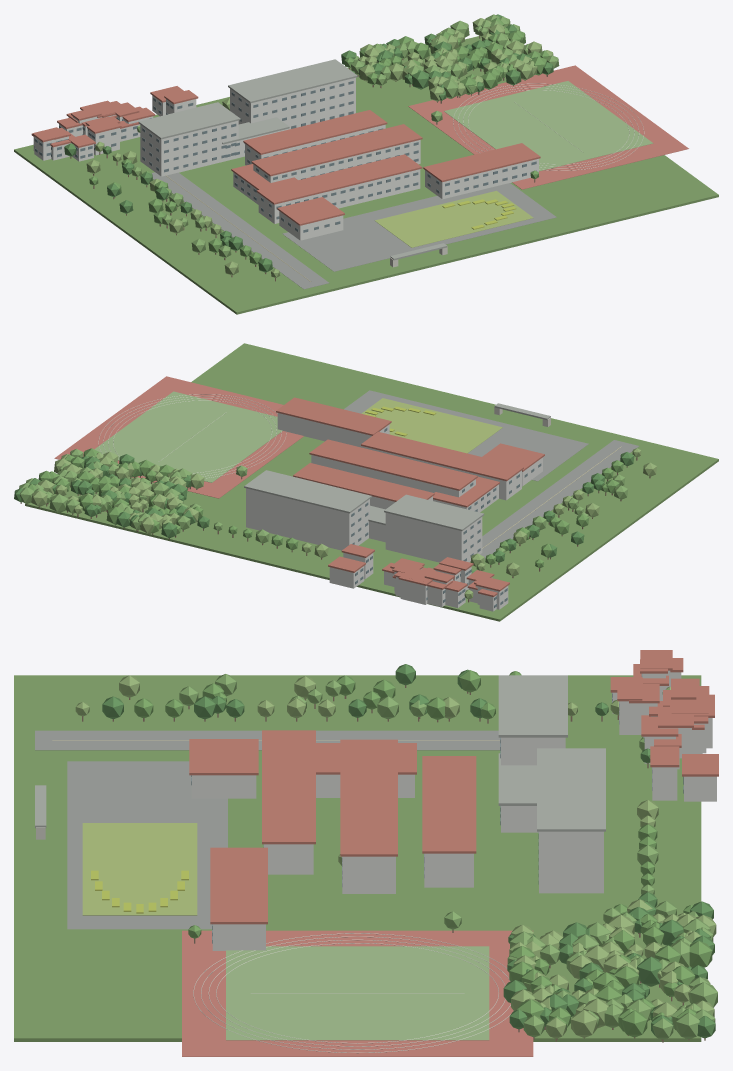
Rendered from dahua-campus.glb.
3 renders of one model, top to bottom at view 1: azimuth 30°, elevation 25°; view 2: azimuth 150°, elevation 25°; view 3: azimuth 270°, elevation 25°, orthographic. The views are drawn at different scales.
Parts seen in each view (by area): view 1: site terrain, field, track base, entrance apron, front oval lawn, west access road, north central pale block, northwest pale block, central classroom wing roof, south classroom wing roof, north central pale block roof, north classroom wing roof (+10 smaller); view 2: site terrain, field, track base, north central pale block, front oval lawn, entrance apron, northwest pale block, west access road, central classroom wing roof, south classroom wing roof, north central pale block roof, north classroom wing roof (+9 smaller); view 3: site terrain, field, track base, entrance apron, front oval lawn, central classroom wing roof, west access road, south classroom wing roof, north central pale block roof, north classroom wing roof, front east annex roof, northwest pale block roof (+20 smaller).
Boxes of the visible parts, x1,y1,x2,y2 form: site terrain: (14,36,718,314); field: (444,81,653,171); track base: (408,65,688,189); entrance apron: (282,183,556,271); front oval lawn: (374,190,533,247); west access road: (152,172,329,289); north central pale block: (230,77,355,129); northwest pale block: (140,120,238,176); central classroom wing roof: (251,124,422,176); south classroom wing roof: (256,154,422,204); north central pale block roof: (228,59,357,103); north classroom wing roof: (243,110,387,154); site terrain: (25,343,718,621); field: (94,391,282,482); track base: (54,376,303,498); north central pale block: (246,488,369,550); front oval lawn: (361,398,502,453); entrance apron: (344,390,588,481); northwest pale block: (385,513,482,562); west access road: (480,440,639,558); central classroom wing roof: (309,439,477,490); south classroom wing roof: (361,431,523,481); north central pale block roof: (244,470,371,513); north classroom wing roof: (293,463,434,501); site terrain: (14,675,701,1041); field: (226,946,489,1040); track base: (182,930,533,1056); entrance apron: (67,761,227,929); front oval lawn: (82,823,197,915); central classroom wing roof: (340,739,397,856); west access road: (35,730,500,750); south classroom wing roof: (262,730,315,844); north central pale block roof: (537,748,605,831); north classroom wing roof: (422,756,476,853); front east annex roof: (210,847,267,924); northwest pale block roof: (498,675,567,737).
Bounding box in the file's own units: 236 × 19.7 × 185.
